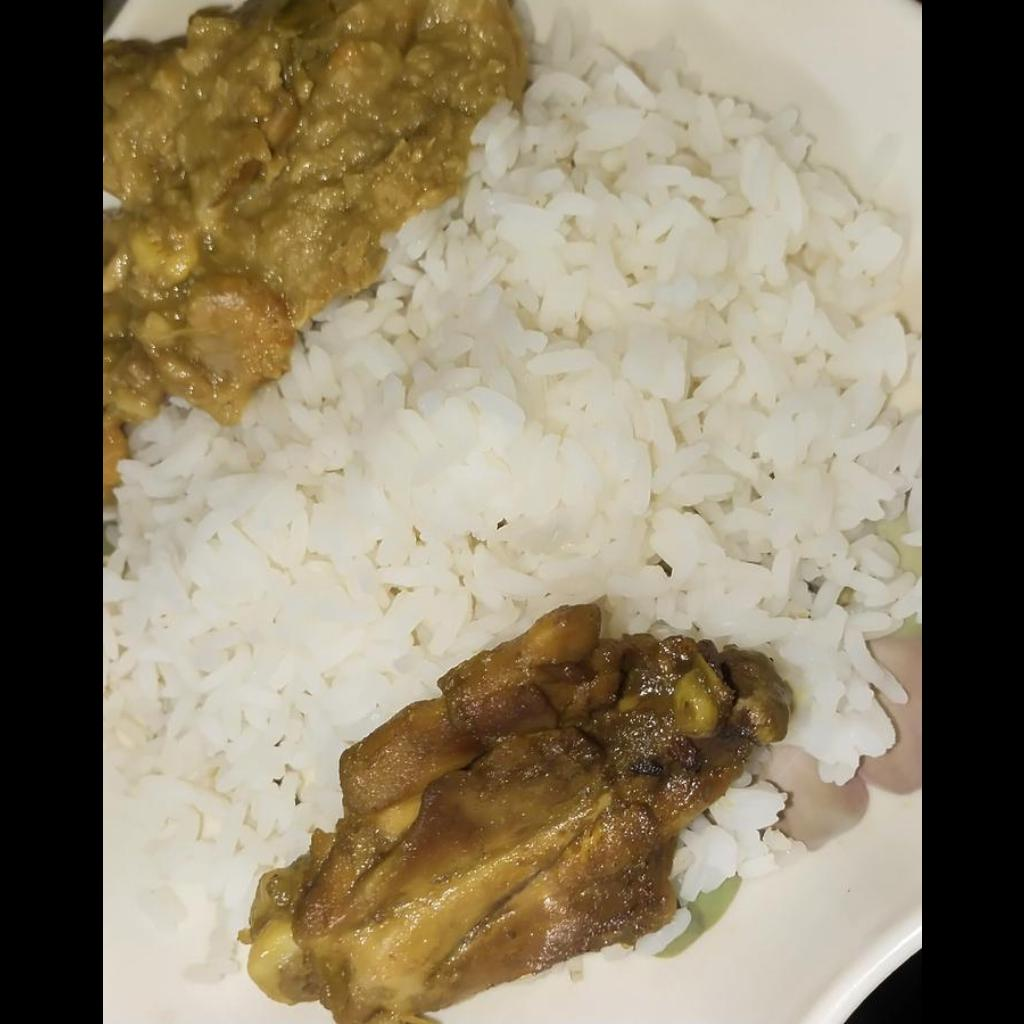chicken: (246, 599, 794, 1022)
daal: (102, 0, 537, 486)
rice: (102, 8, 920, 971)
